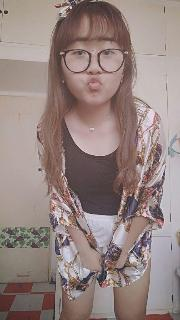long sleeve outwear: (36, 101, 168, 301)
shorts: (58, 209, 151, 270)
